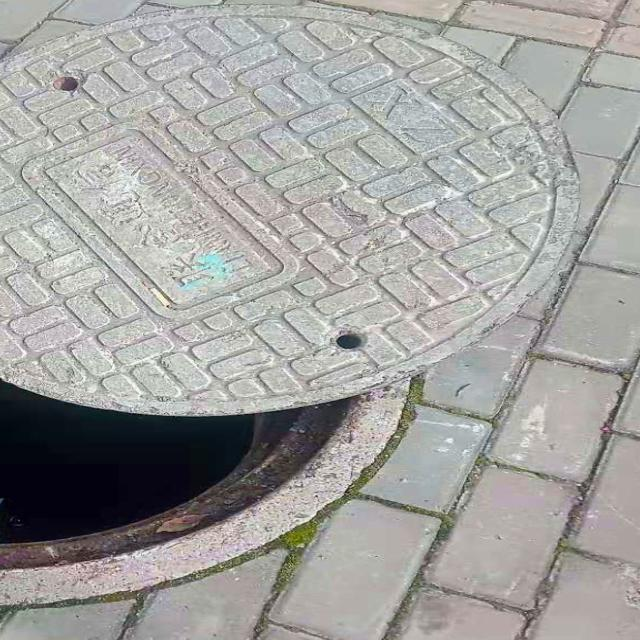uncovered: (0, 10, 587, 588)
